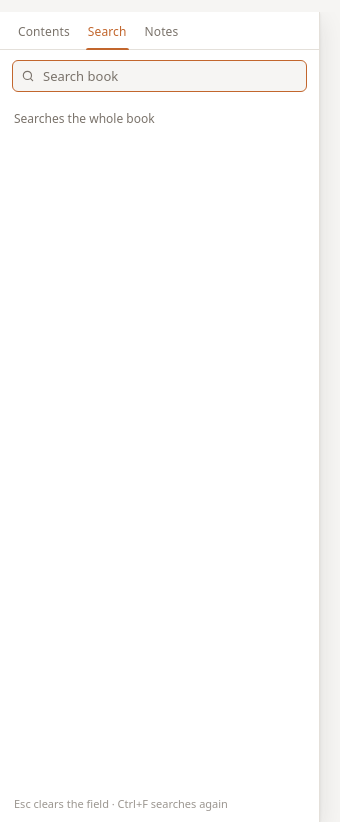
Test case: SearchPanel › ignores a stale response (request-race guard)
This screenshot has width=340, height=822.
Step 1. Type "aaa" into the search field with placeholder "Search book" → coordinates (160, 76), box [12,60,307,92]
Wait 150 ms
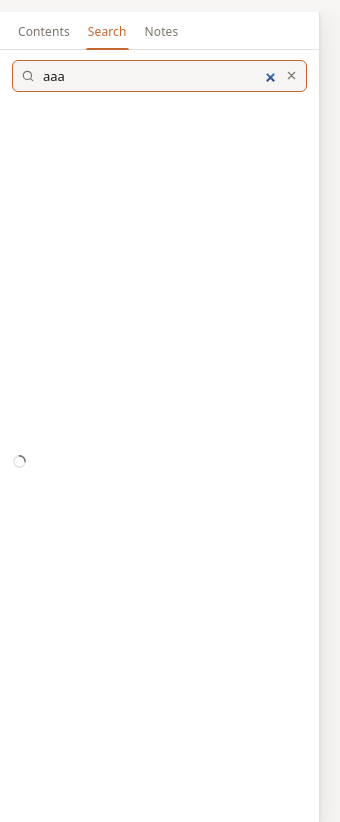
Step 2. Replace the text in the search field with placeholder "Search book" with "bbb" → coordinates (160, 76), box [12,60,307,92]
Wait 150 ms
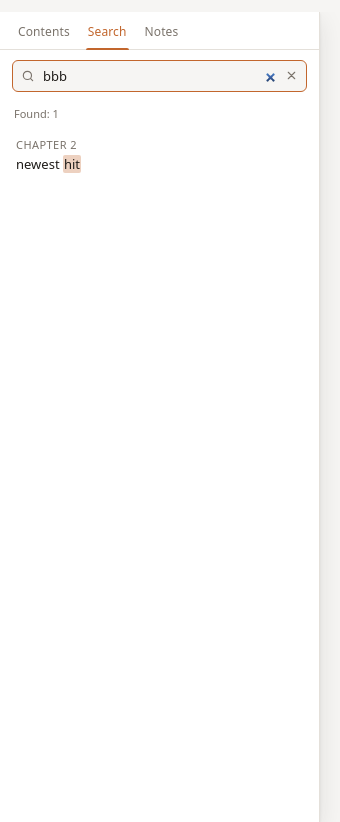
Now the text "hit" is shown, box [63,155,81,173]
